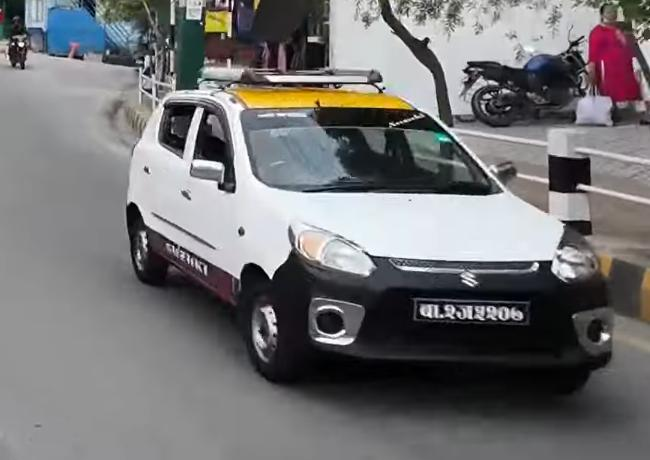bike: (463, 29, 596, 127), (3, 25, 37, 71)
taxi: (120, 51, 619, 406)
